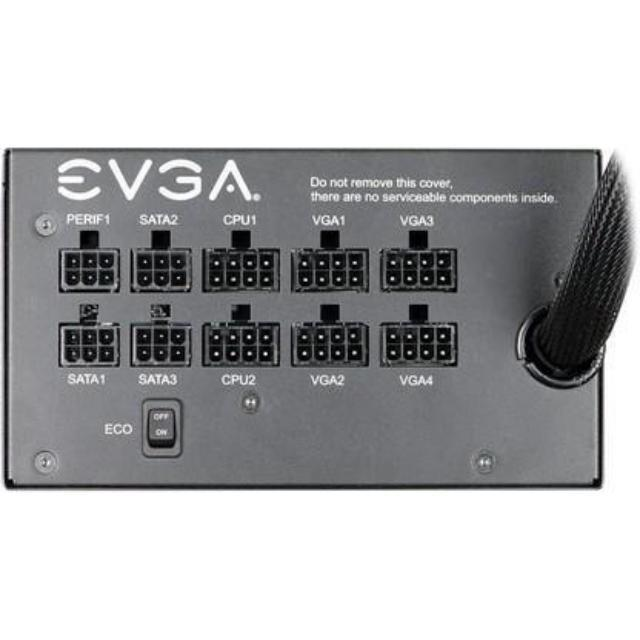PSU: (0, 133, 623, 502)
